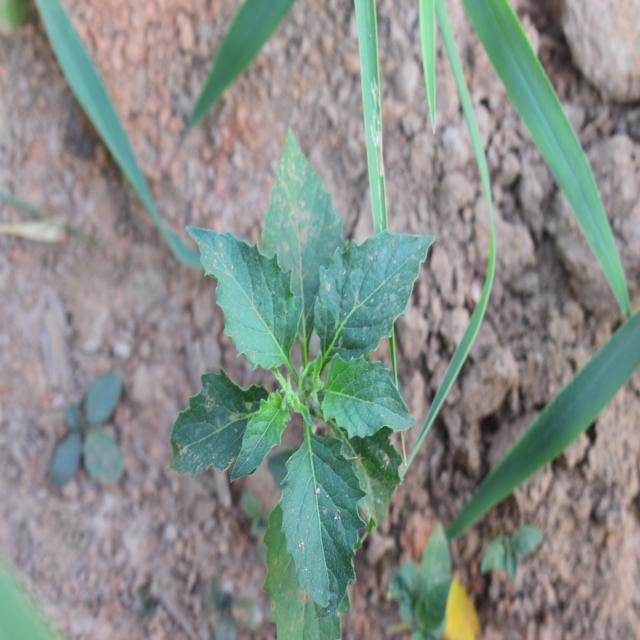Black_nightshade: (193, 168, 409, 578)
